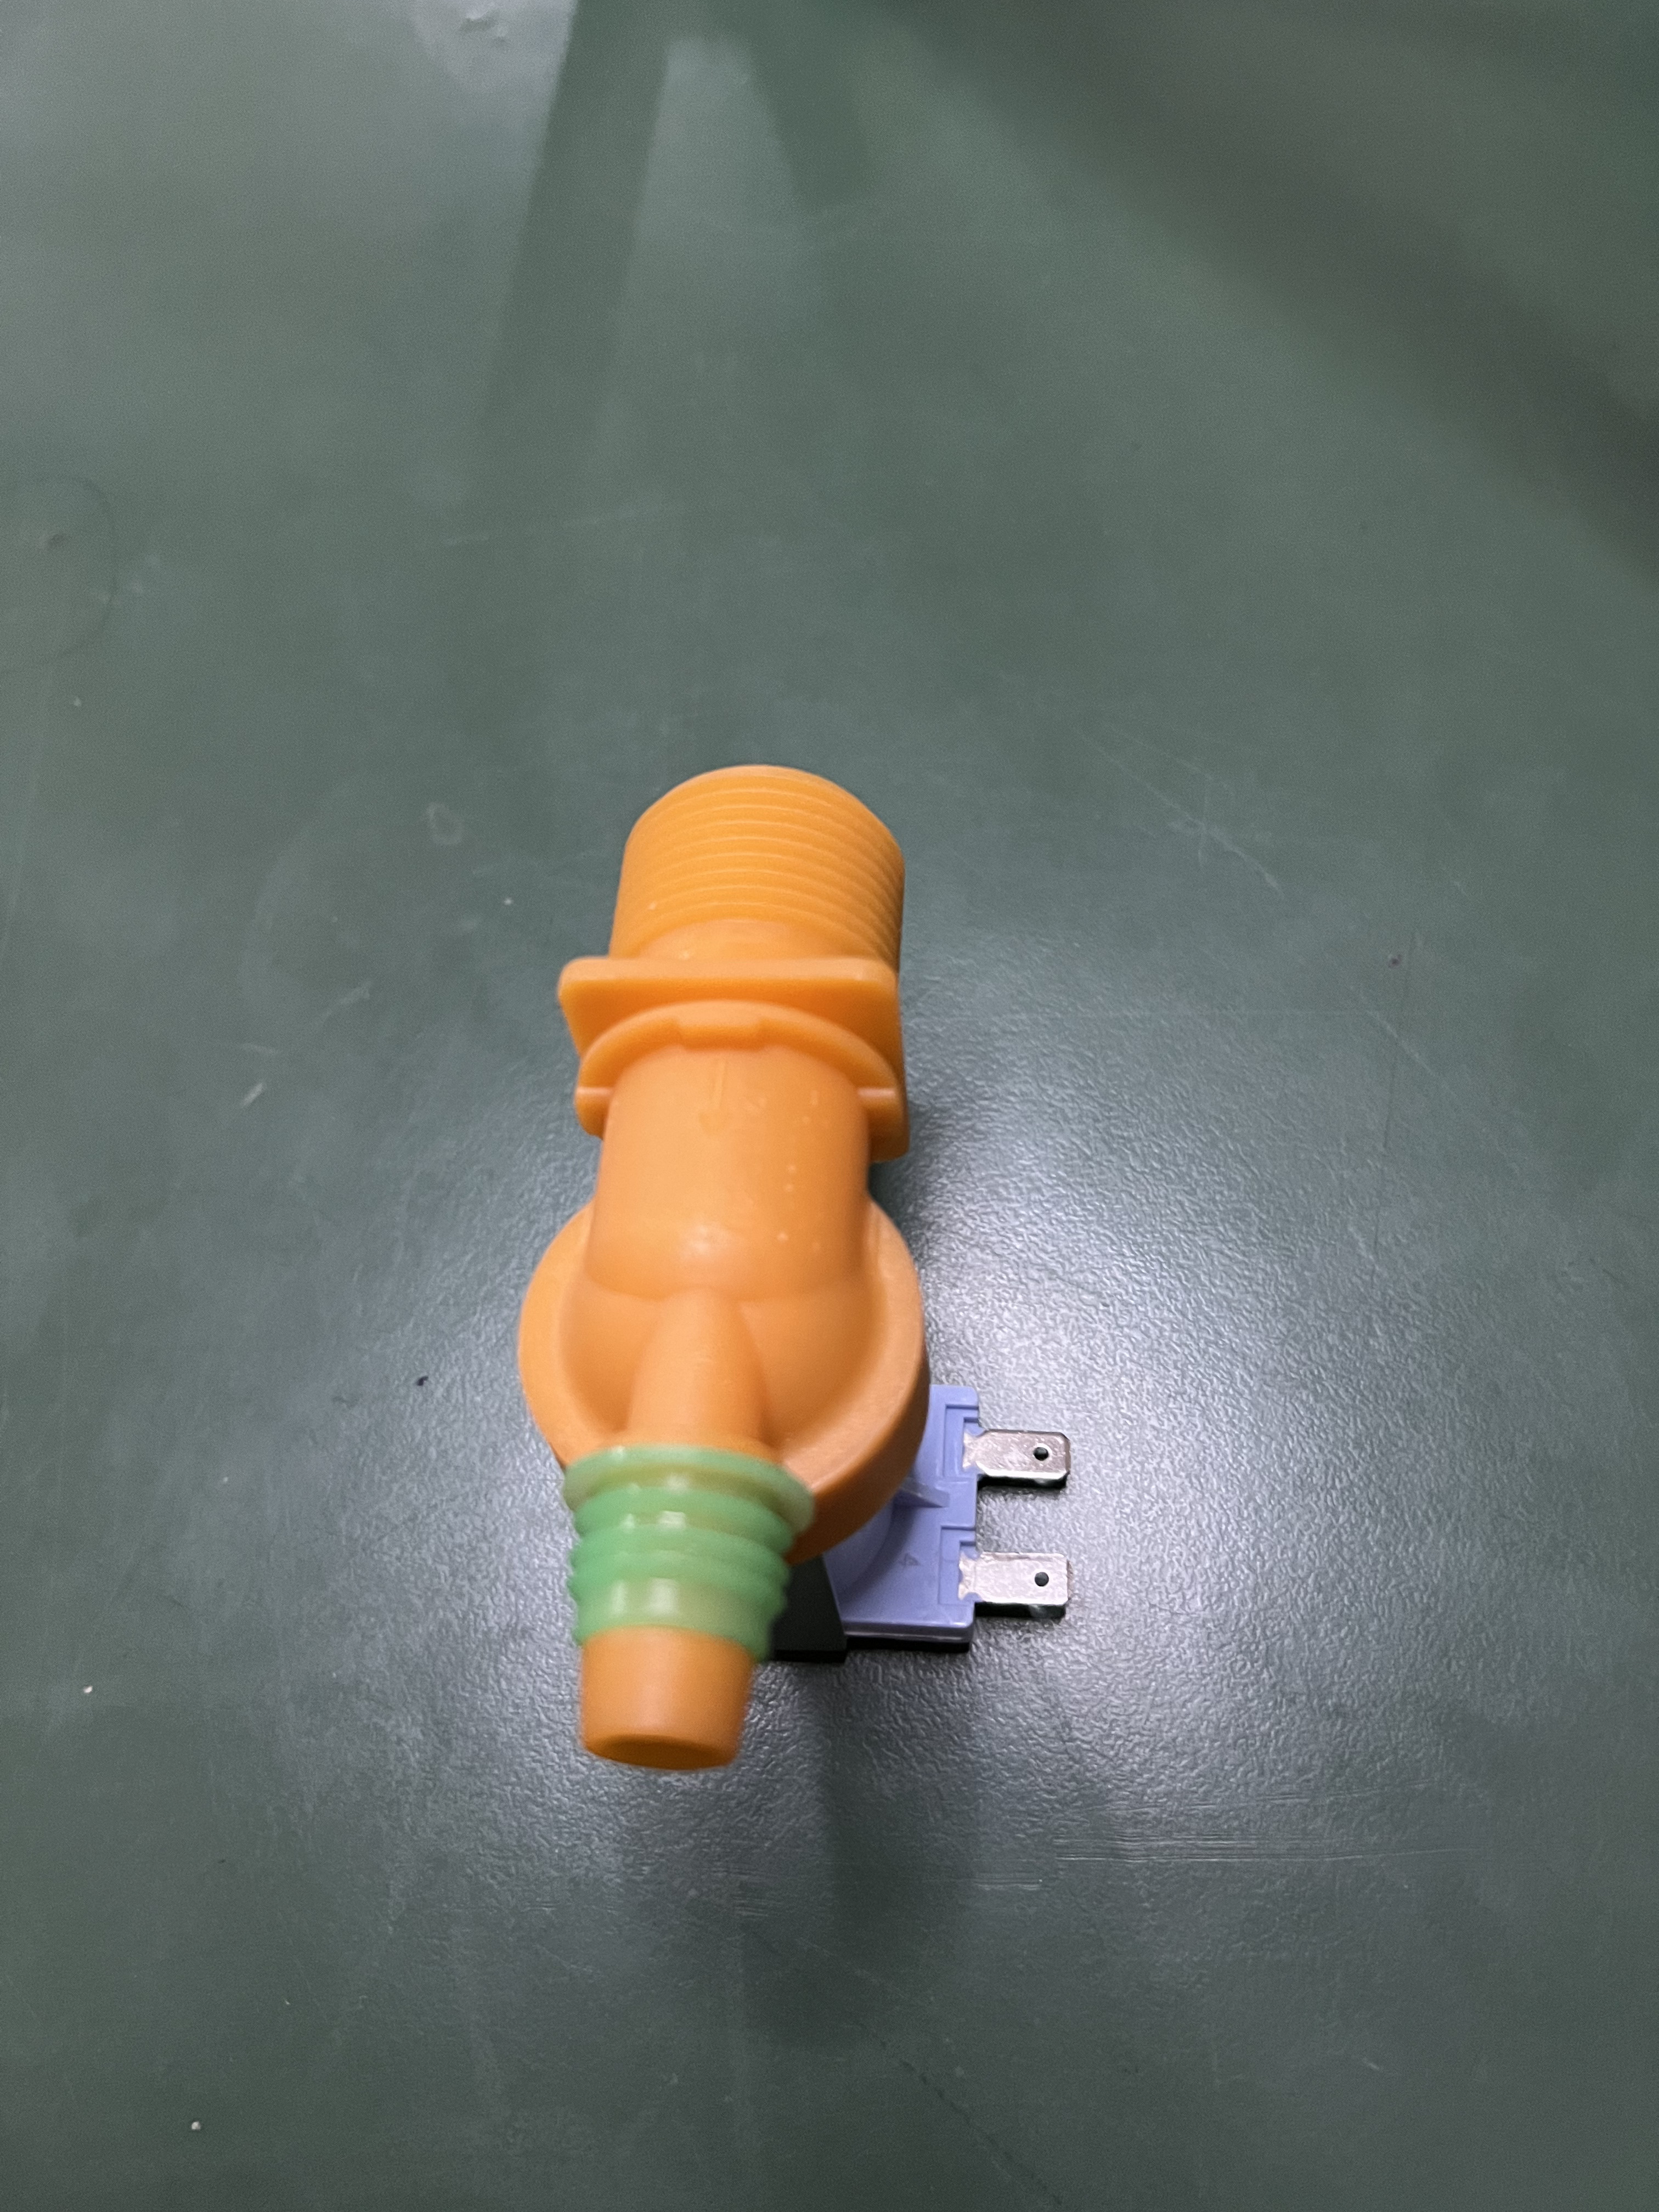ss_inlet_valves: (535, 779, 1211, 1838)
